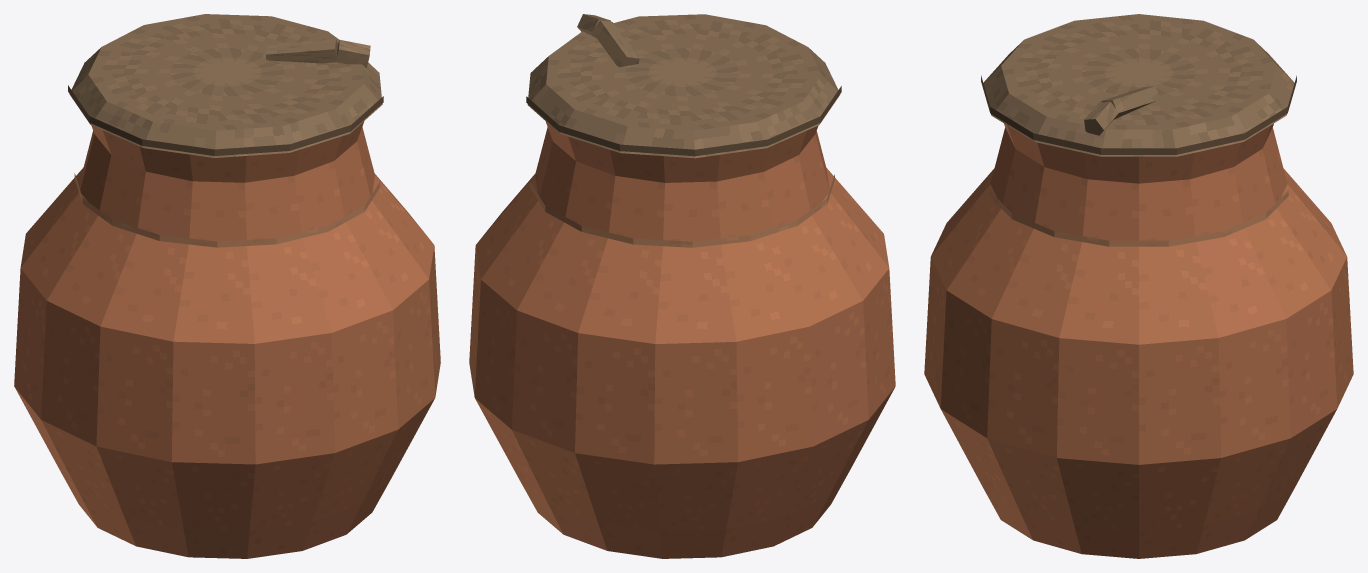
Rendered from clay_canister.glb.
The picture shows the model from 3 angles, left to right: view 1: azimuth 30°, elevation 25°; view 2: azimuth 150°, elevation 25°; view 3: azimuth 270°, elevation 25°; orthographic projection.
Parts seen in each view (by area): view 1: block_thrown clay shoulders, block_tied waterproof hide cover, block_hide binding cord, block_urn decorative clay band, block_folded lid tab 0, block_folded lid tab 1; view 2: block_thrown clay shoulders, block_tied waterproof hide cover, block_hide binding cord, block_urn decorative clay band, block_folded lid tab 0; view 3: block_thrown clay shoulders, block_tied waterproof hide cover, block_hide binding cord, block_urn decorative clay band, block_folded lid tab 0, block_folded lid tab 1.
Part boxes in pixels (x1=…): block_thrown clay shoulders: x1=14, y1=121, x2=440, y2=558; block_tied waterproof hide cover: x1=69, y1=14, x2=382, y2=157; block_hide binding cord: x1=68, y1=85, x2=383, y2=155; block_urn decorative clay band: x1=74, y1=173, x2=380, y2=247; block_folded lid tab 0: x1=265, y1=39, x2=337, y2=63; block_folded lid tab 1: x1=336, y1=40, x2=370, y2=67; block_thrown clay shoulders: x1=469, y1=121, x2=895, y2=558; block_tied waterproof hide cover: x1=527, y1=14, x2=840, y2=158; block_hide binding cord: x1=526, y1=86, x2=841, y2=156; block_urn decorative clay band: x1=530, y1=174, x2=834, y2=247; block_folded lid tab 0: x1=592, y1=20, x2=639, y2=67; block_thrown clay shoulders: x1=924, y1=123, x2=1353, y2=558; block_tied waterproof hide cover: x1=983, y1=14, x2=1294, y2=156; block_hide binding cord: x1=981, y1=75, x2=1296, y2=154; block_urn decorative clay band: x1=989, y1=190, x2=1288, y2=246; block_folded lid tab 0: x1=1101, y1=86, x2=1159, y2=119; block_folded lid tab 1: x1=1084, y1=101, x2=1118, y2=135.
Size of the model in its own units: 0.1145 by 0.13 by 0.1145.
1 material, 1 textured.
